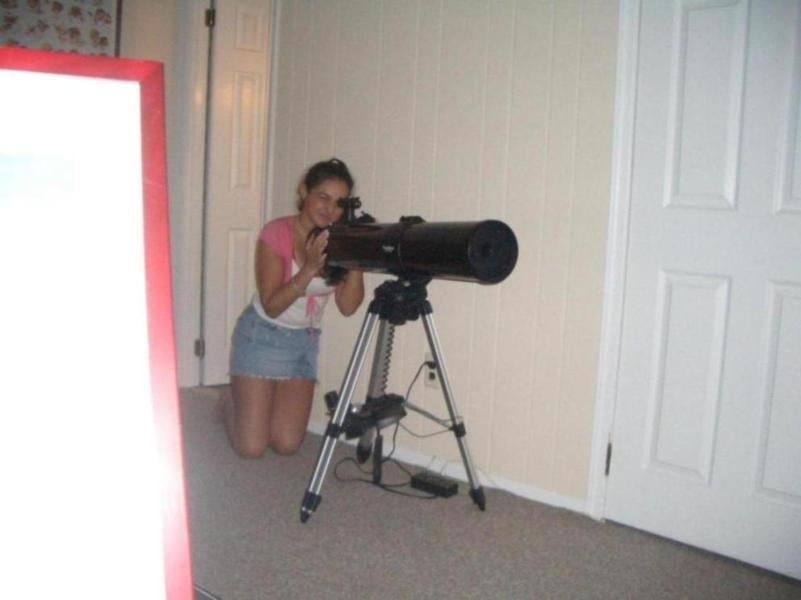person: (215, 161, 367, 456)
